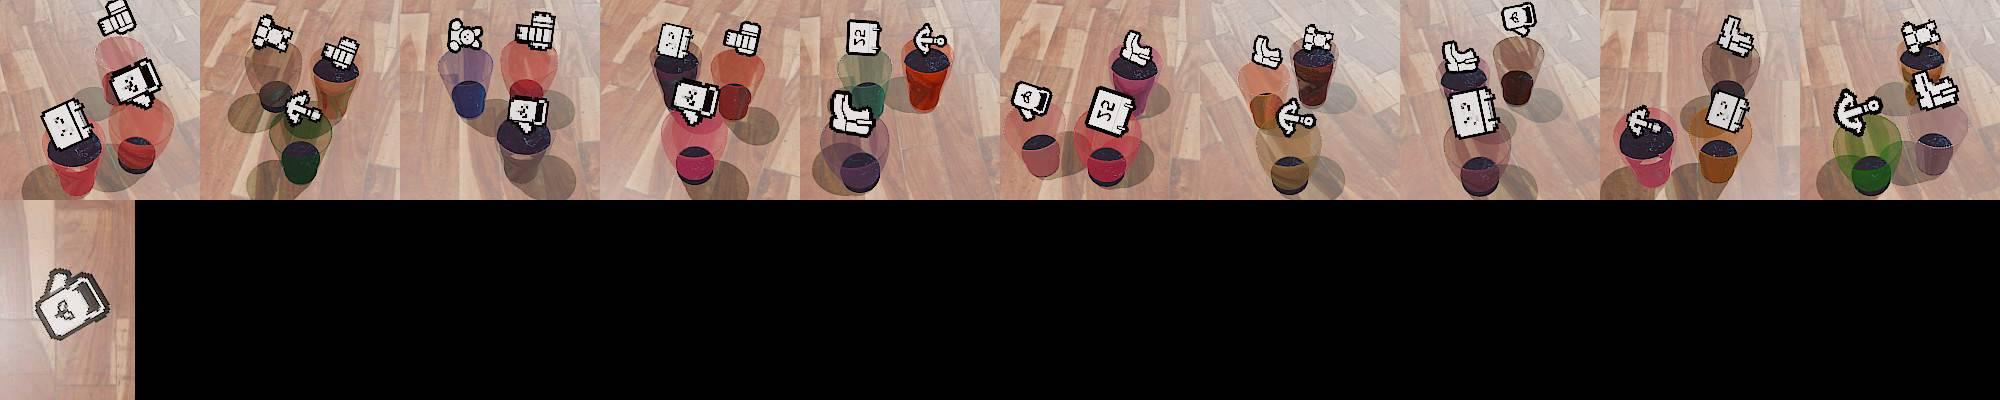icon: (34, 266, 112, 343), (39, 95, 97, 151), (105, 57, 163, 110), (1447, 84, 1499, 140), (1084, 85, 1137, 138), (1833, 87, 1884, 137), (1704, 82, 1751, 135), (828, 87, 876, 136), (671, 79, 720, 125), (1911, 68, 1960, 111), (505, 90, 549, 133), (513, 10, 556, 53), (251, 13, 296, 54), (1716, 13, 1756, 59), (1275, 94, 1317, 137), (1011, 80, 1050, 122), (1901, 18, 1941, 56), (98, 0, 138, 38), (722, 19, 761, 57), (1119, 28, 1155, 69), (284, 88, 322, 126), (1441, 39, 1479, 76), (447, 17, 484, 54), (1501, 1, 1538, 37), (657, 22, 693, 59), (846, 19, 881, 57), (912, 21, 947, 56), (1251, 33, 1284, 70), (1298, 22, 1334, 55), (1627, 104, 1663, 136), (322, 41, 356, 67)
